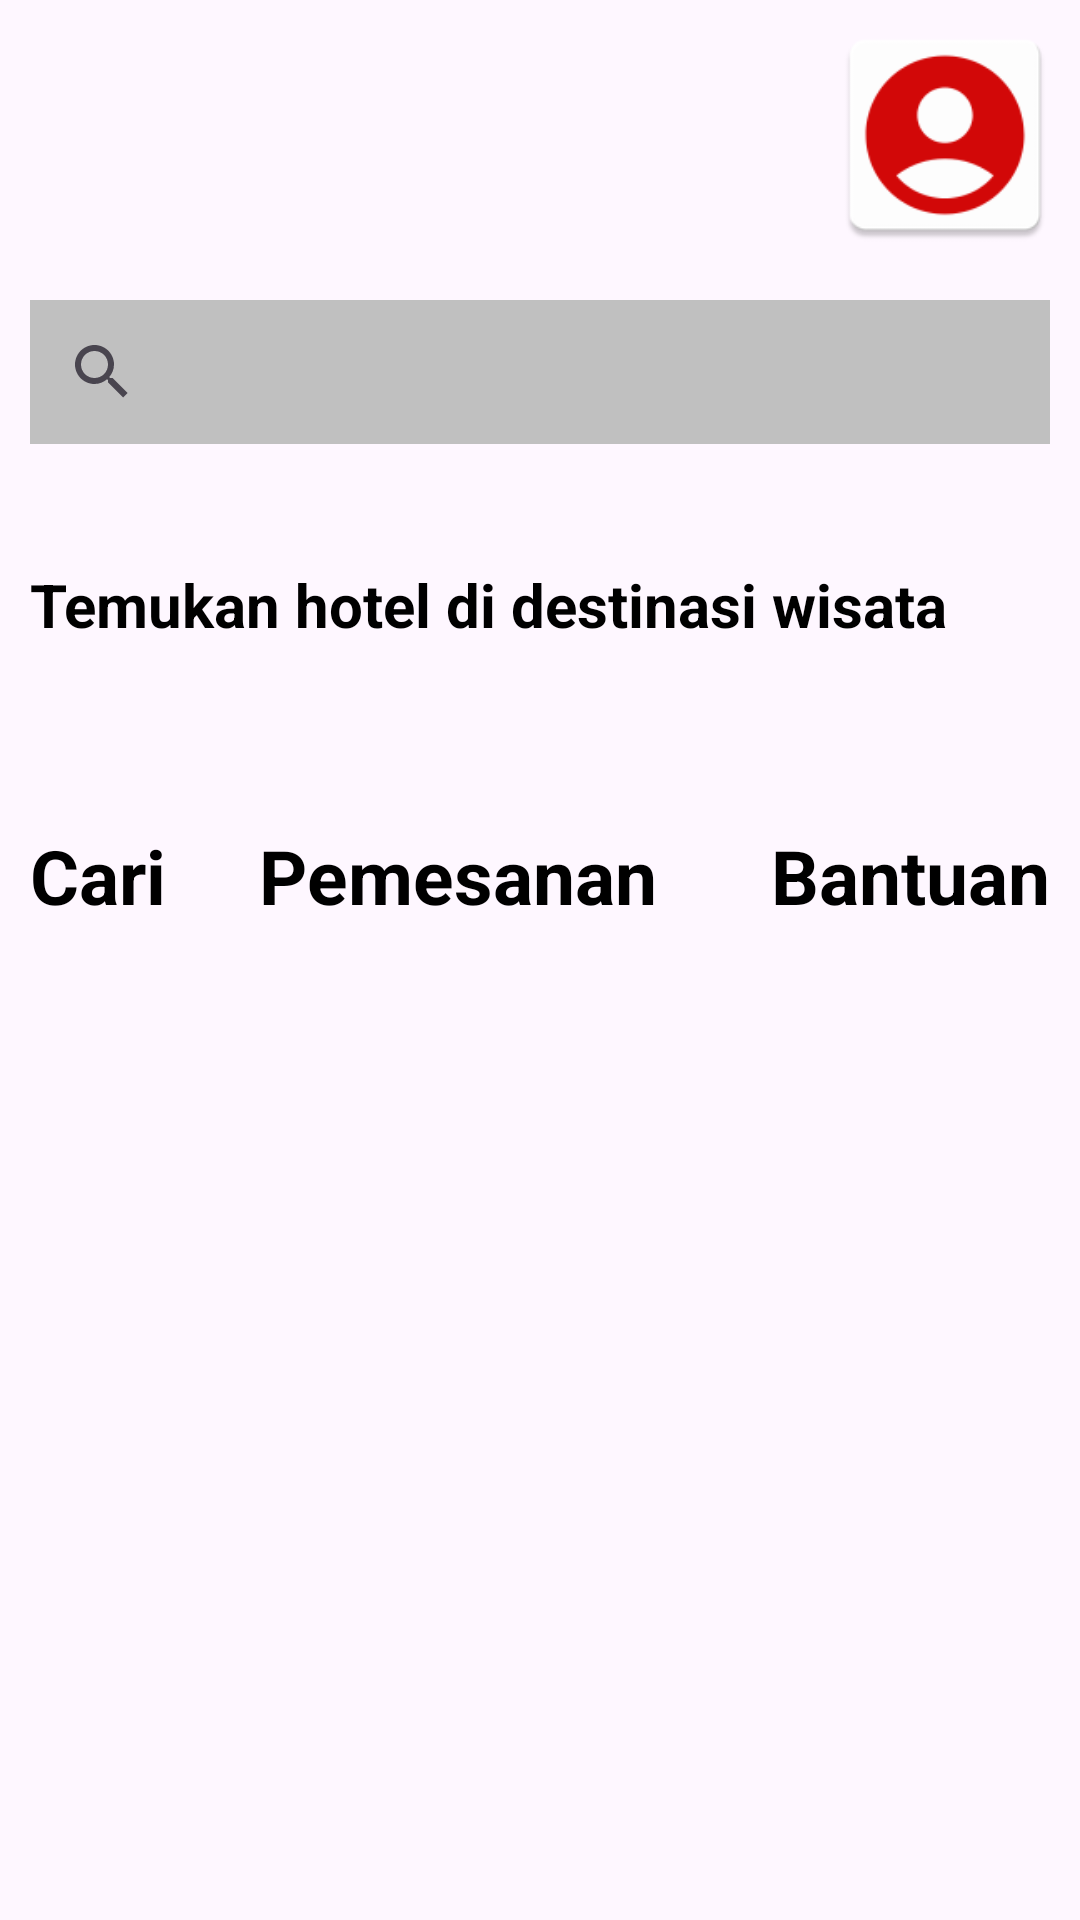

Where icons sit on this 1080px×1920px app screen, as (x1, y1, x2, y2):
account: (850, 51, 1041, 236)
